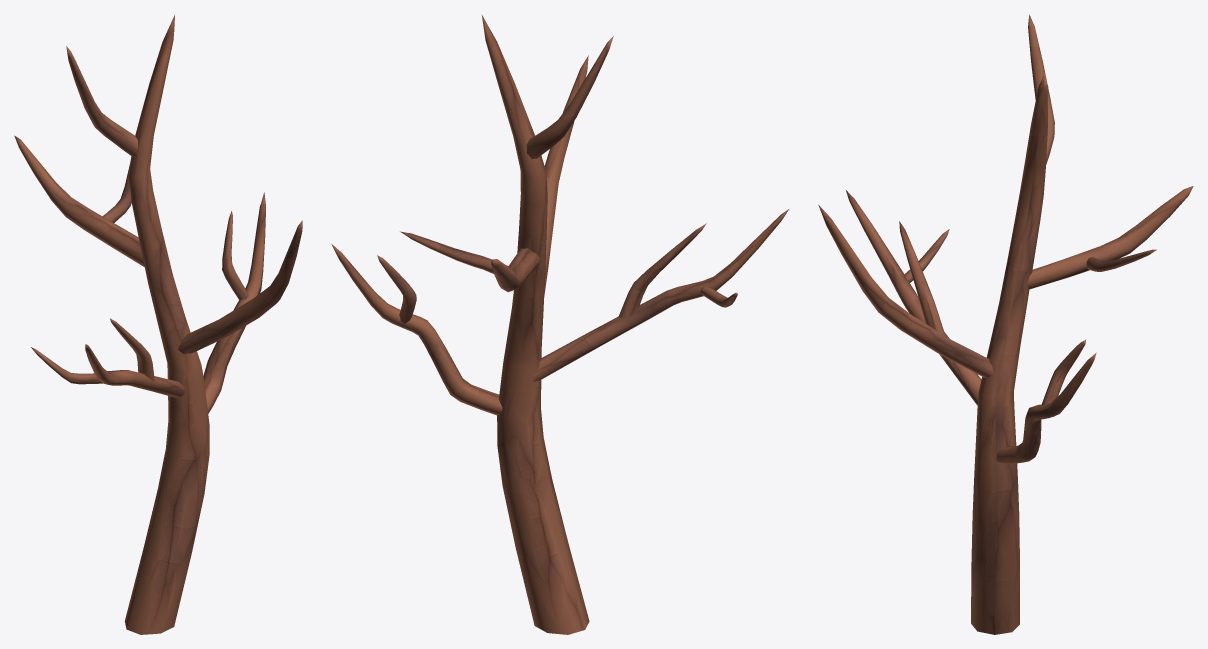
The model's file is DeadTree_5.glb.
The picture shows the model from 3 angles, left to right: view 1: azimuth 30°, elevation 25°; view 2: azimuth 150°, elevation 25°; view 3: azimuth 270°, elevation 25°; orthographic projection. The views are drawn at different scales.
Visible parts, largest first — view 1: DeadTree_5; view 2: DeadTree_5; view 3: DeadTree_5.
Part boxes in pixels (x1=…): DeadTree_5: x1=14, y1=15, x2=302, y2=634; DeadTree_5: x1=331, y1=14, x2=788, y2=634; DeadTree_5: x1=818, y1=14, x2=1193, y2=634.
Size of the model in its own units: 1.44 by 2.6 by 1.53.
1 material, 1 textured.
